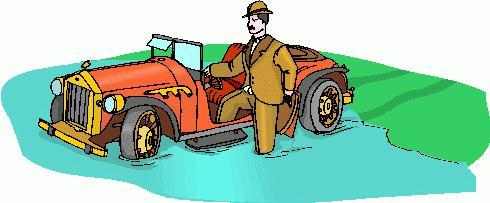car: (37, 28, 354, 159)
person: (203, 1, 297, 156)
